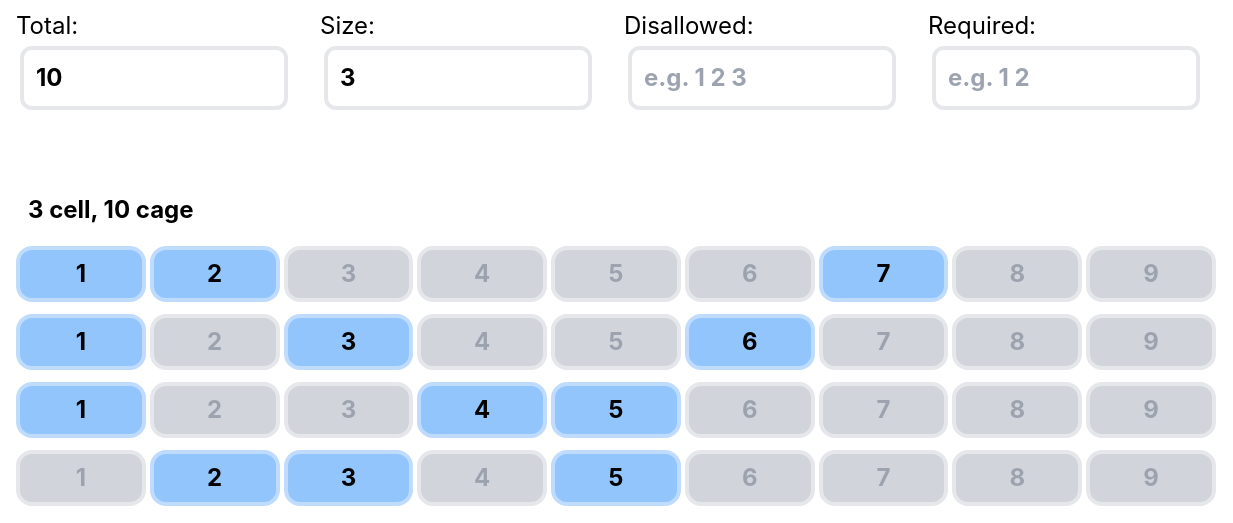
Test case: InnerApp › shows an empty state when no combinations match
Type "9" into the field labelled "Required:" at (1066, 78), box [932, 46, 1200, 110]
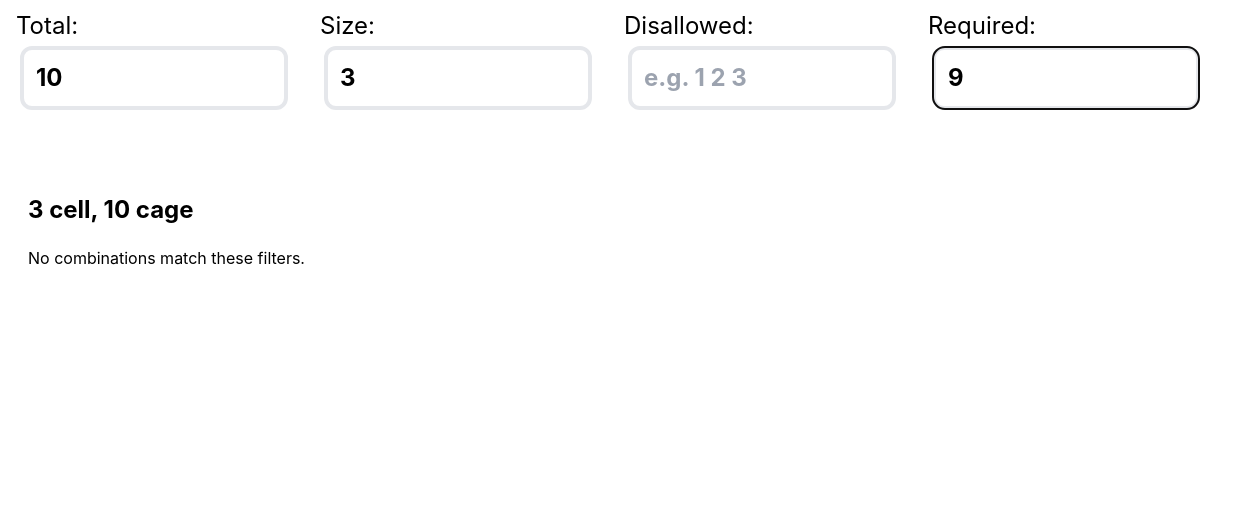
Now the text "No combinations match these filters." is shown, box [28, 248, 305, 268]
